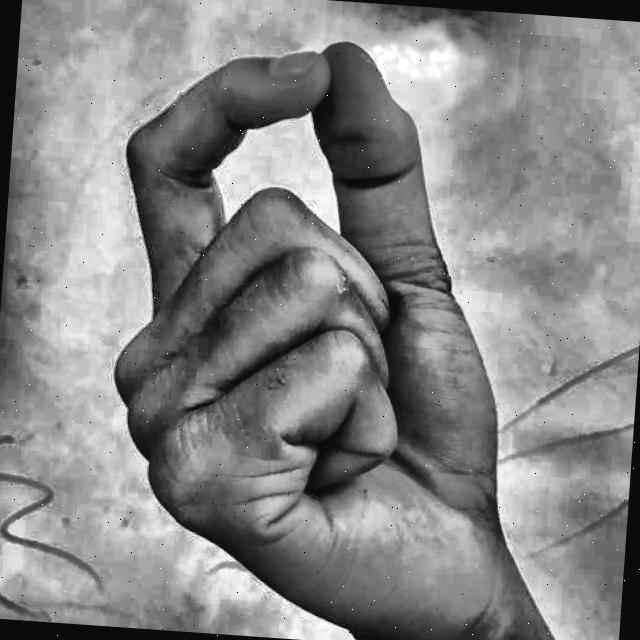Gha: (54, 7, 588, 640)
